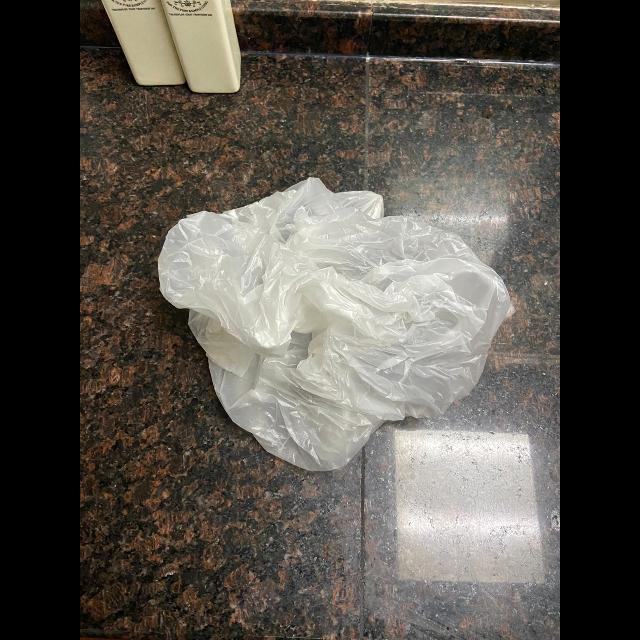plastic_bag: (156, 175, 514, 473)
